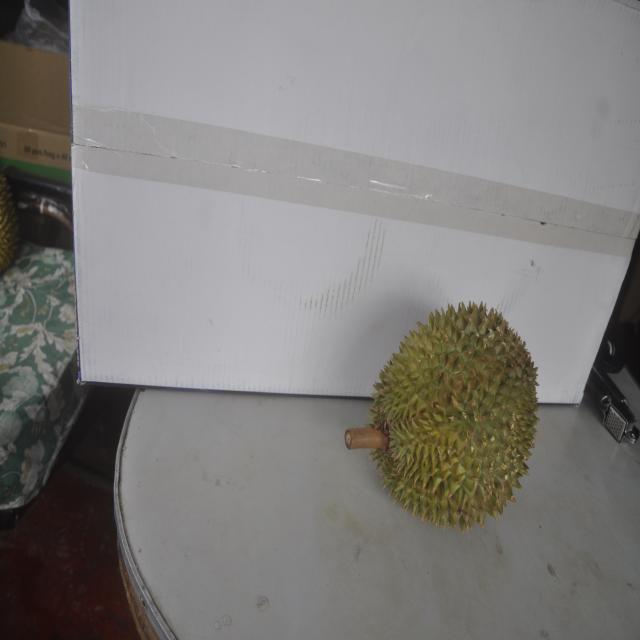mature: (352, 295, 538, 530)
